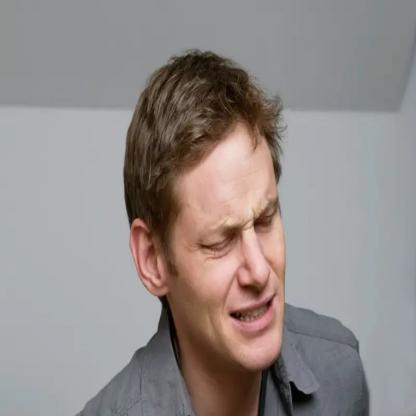pain: (196, 188, 284, 259)
